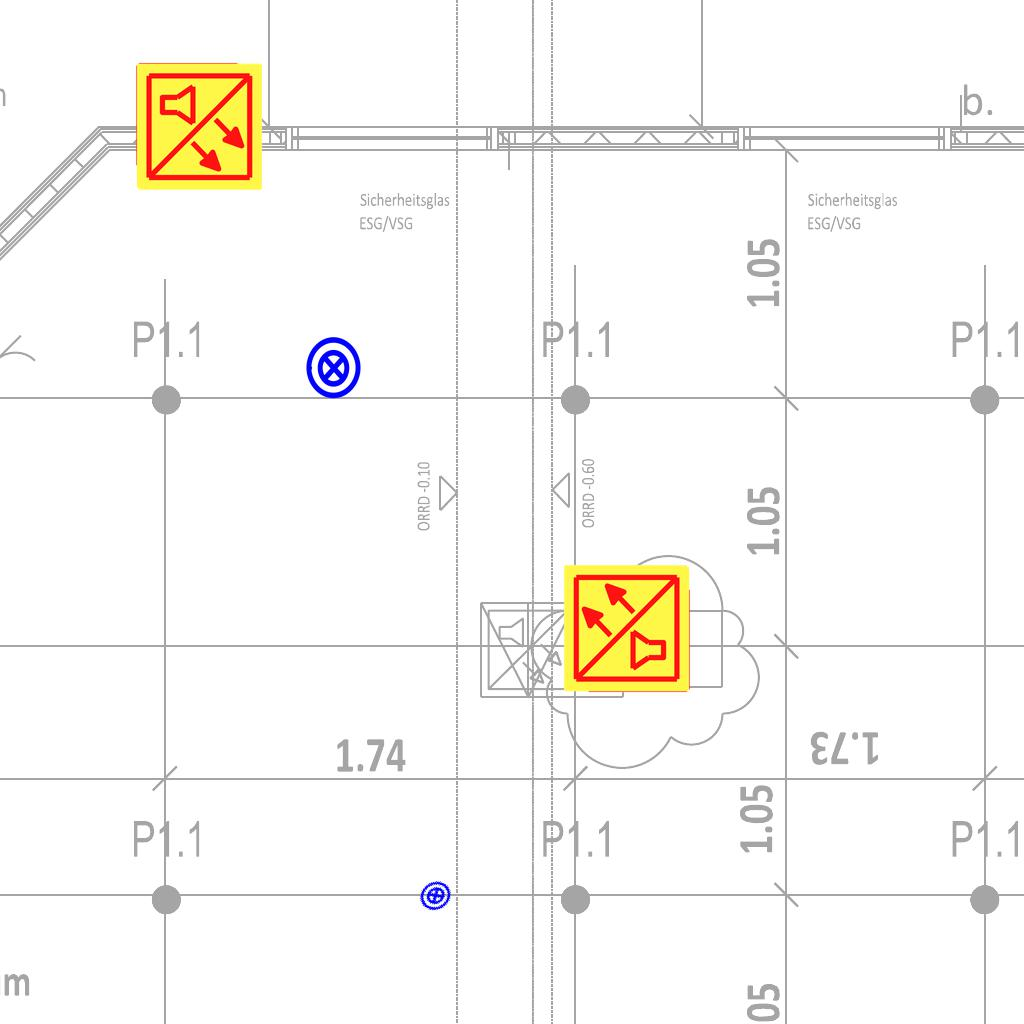OKW_Multisensormelder_(Kombination_optischer_Rauch-Kahlenmonoxid_Waerme-Melder): (561, 562, 693, 694), (133, 61, 265, 193)
Taster_beleuchtet: (301, 335, 367, 401), (412, 872, 459, 919)
